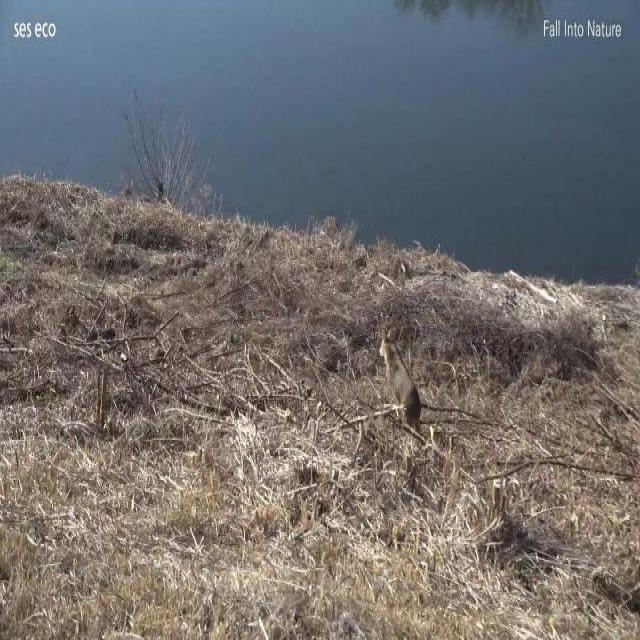deer: (378, 325, 421, 428)
